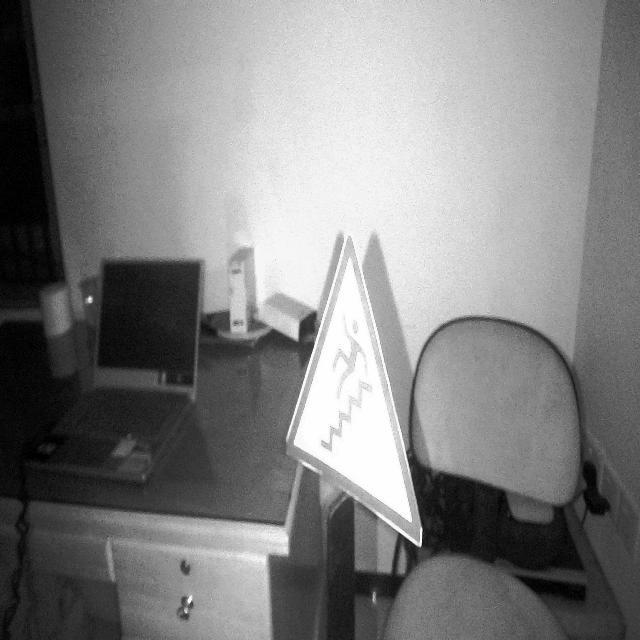Sign: (285, 231, 425, 551)
